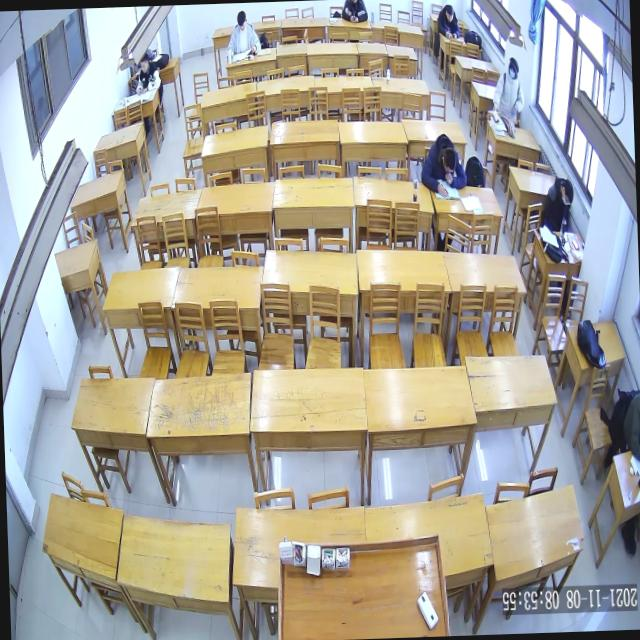bow: (418, 132, 466, 197)
down: (441, 146, 456, 174), (561, 178, 574, 205), (236, 10, 247, 30), (445, 5, 454, 22), (140, 54, 148, 73)
sit: (492, 56, 524, 122), (539, 176, 575, 231), (226, 10, 261, 56), (134, 54, 162, 94), (436, 3, 460, 40)
